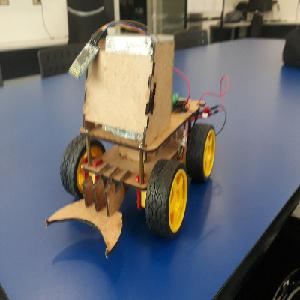Robot: (44, 20, 217, 260)
